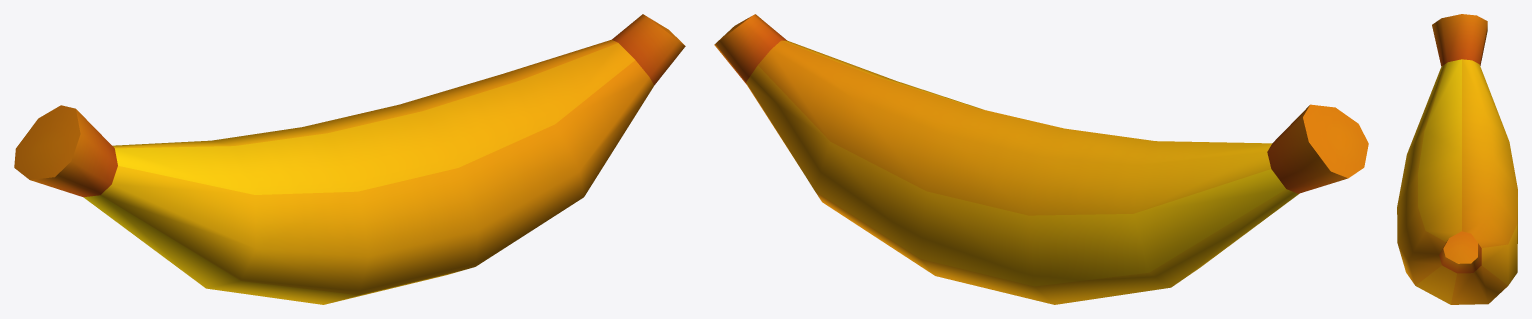
File: Banana_02.glb
3 views of the same model, side by side, from view 1: azimuth 30°, elevation 25°; view 2: azimuth 150°, elevation 25°; view 3: azimuth 270°, elevation 25° (orthographic). The views are drawn at different scales.
Visible parts, largest first — view 1: Banana_02; view 2: Banana_02; view 3: Banana_02.
Boxes of the visible parts, x1,y1,x2,y2 form: Banana_02: (14, 14, 685, 304); Banana_02: (714, 14, 1368, 304); Banana_02: (1397, 14, 1517, 304).
Bounding box in the file's own units: 0.4916 × 0.1773 × 0.1182.
Materials: 1 (1 with a texture image).
